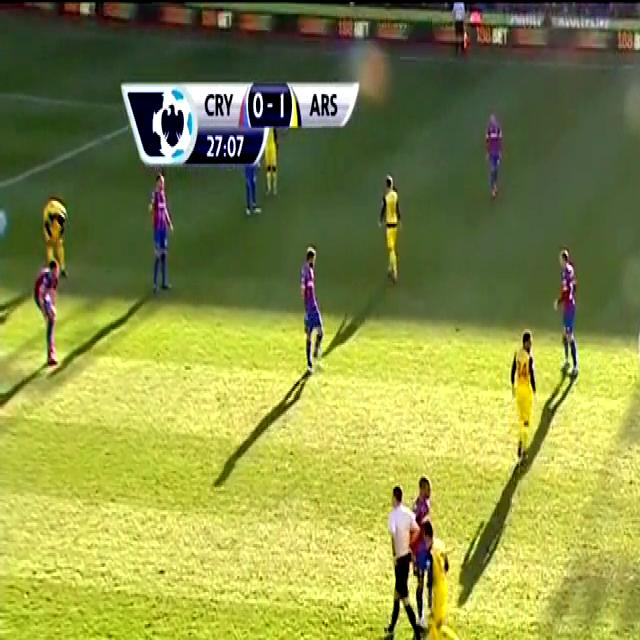referee: (377, 476, 421, 640)
soccer-player: (17, 253, 69, 380), (290, 241, 334, 378), (366, 168, 412, 289), (547, 244, 587, 370), (504, 327, 543, 443), (234, 134, 281, 222), (38, 187, 78, 284), (477, 112, 514, 209)
